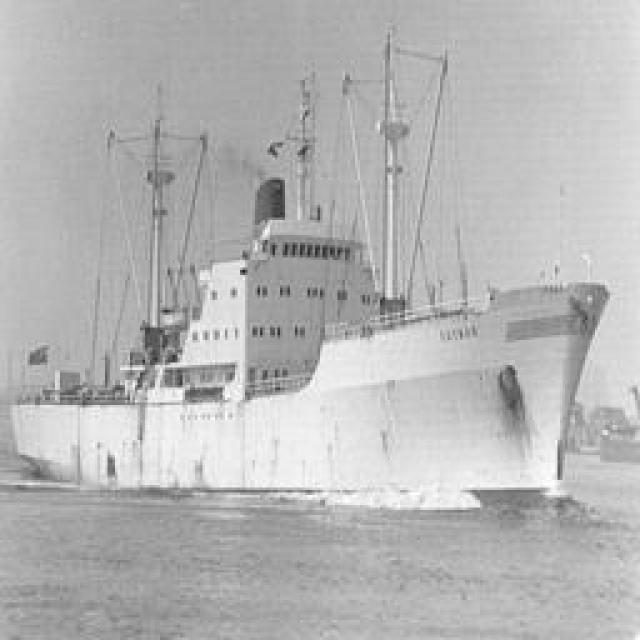Ship: (10, 30, 612, 519)
